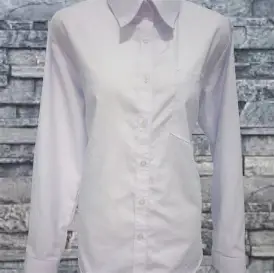kemeja_benar: (25, 5, 248, 259)
